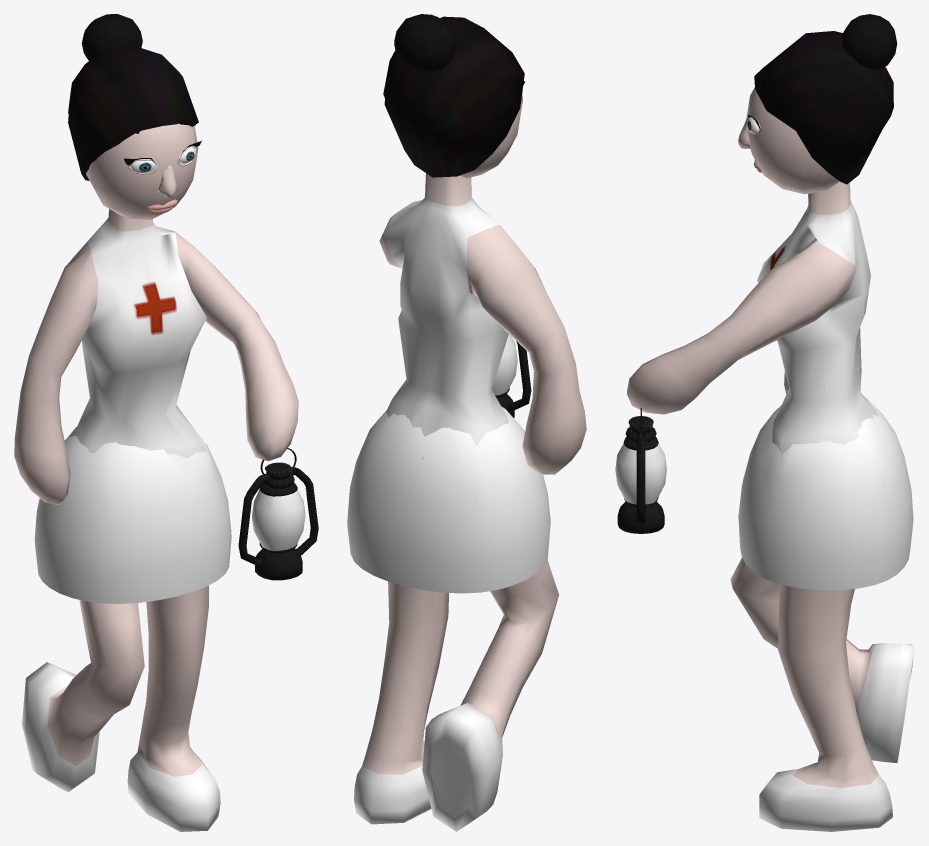
Rendered from walking_000007.obj.
The picture shows the model from 3 angles, left to right: view 1: azimuth 30°, elevation 25°; view 2: azimuth 150°, elevation 25°; view 3: azimuth 270°, elevation 25°; orthographic projection. The views are drawn at different scales.
Parts seen in each view (by area): view 1: Cube_Cube.001, Cube.001_Cube, Cube.004; view 2: Cube_Cube.001, Cube.001_Cube, Cube.004; view 3: Cube_Cube.001, Cube.001_Cube, Cube.004.
Part boxes in pixels (box(x1,y1,x2,y2)): Cube_Cube.001: box(14, 14, 298, 831); Cube.001_Cube: box(34, 427, 231, 603); Cube.004: box(238, 448, 318, 580); Cube_Cube.001: box(354, 14, 586, 831); Cube.001_Cube: box(347, 406, 550, 593); Cube.004: box(491, 334, 531, 417); Cube_Cube.001: box(627, 14, 914, 831); Cube.001_Cube: box(738, 398, 913, 590); Cube.004: box(615, 408, 666, 533).
Bounding box in the file's own units: 0.5891 × 2.08 × 0.7201.
